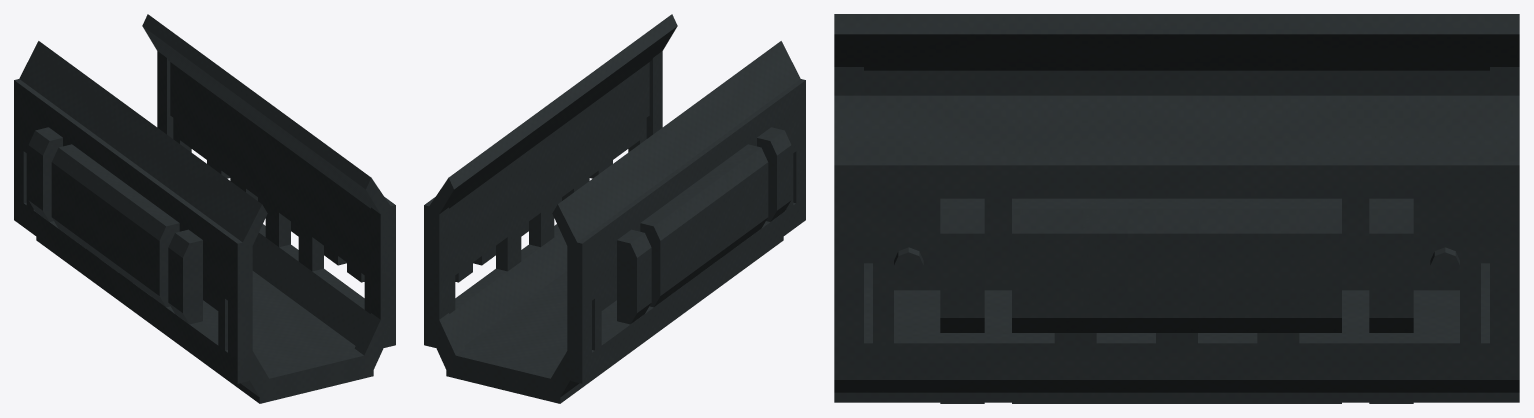
File: mp5_rail.glb
The picture shows the model from 3 angles, left to right: view 1: azimuth 30°, elevation 25°; view 2: azimuth 150°, elevation 25°; view 3: azimuth 270°, elevation 25°; orthographic projection. The views are drawn at different scales.
Parts seen in each view (by area): view 1: handguard__mp5_rail_LOD0_RAID_Secondary_Original_steel, handguard__mp5_rail_LOD1_RAID_Secondary_Original_steel; view 2: handguard__mp5_rail_LOD0_RAID_Secondary_Original_steel, handguard__mp5_rail_LOD1_RAID_Secondary_Original_steel; view 3: handguard__mp5_rail_LOD0_RAID_Secondary_Original_steel, handguard__mp5_rail_LOD1_RAID_Secondary_Original_steel.
Boxes of the visible parts, bbox=[...] form: handguard__mp5_rail_LOD0_RAID_Secondary_Original_steel: bbox=[14, 14, 395, 403]; handguard__mp5_rail_LOD1_RAID_Secondary_Original_steel: bbox=[27, 119, 370, 373]; handguard__mp5_rail_LOD0_RAID_Secondary_Original_steel: bbox=[424, 14, 805, 403]; handguard__mp5_rail_LOD1_RAID_Secondary_Original_steel: bbox=[449, 119, 792, 371]; handguard__mp5_rail_LOD0_RAID_Secondary_Original_steel: bbox=[834, 14, 1519, 403]; handguard__mp5_rail_LOD1_RAID_Secondary_Original_steel: bbox=[874, 198, 1479, 403].
Bounding box in the file's own units: 0.118 × 0.122 × 0.23.
1 material, 1 textured.
